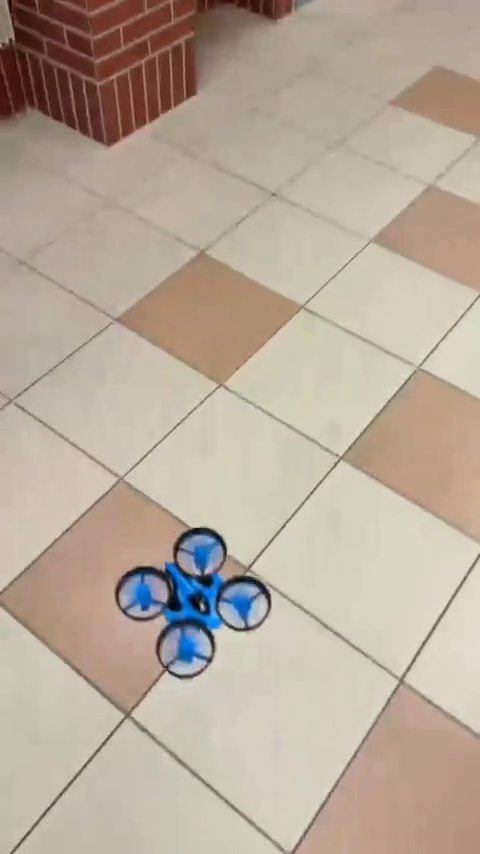drone: (114, 524, 274, 676)
